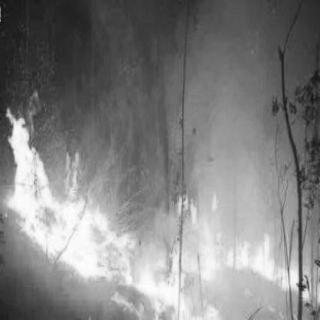Fire: (3, 98, 310, 312)
